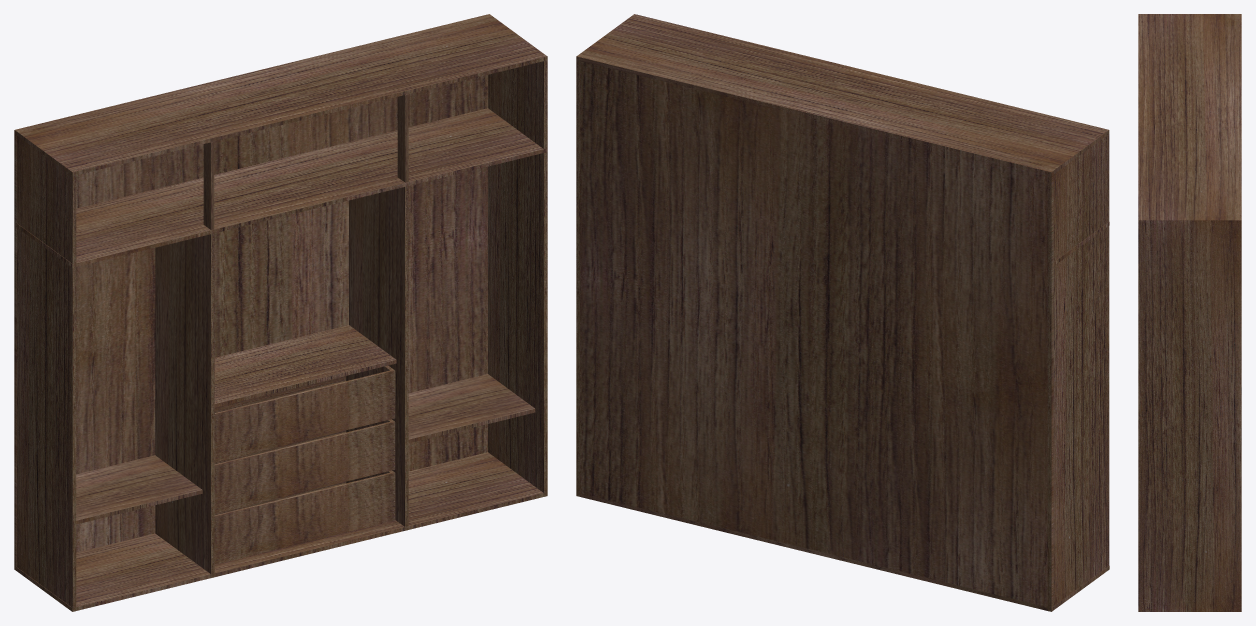
Rendered from closet-DFo61GYr.glb.
3 views of the same model, side by side, from view 1: azimuth 30°, elevation 25°; view 2: azimuth 150°, elevation 25°; view 3: azimuth 270°, elevation 25° (orthographic). The views are drawn at different scales.
Visible parts, largest first — view 1: Cube.004, Cube.006, Cube.009, Cube.001, Cube.008, Cube.003, Cube.005, Cube.014, Cube.000, Cube.007, Cube.030, Cube.002 (+2 smaller); view 2: Cube.004, Cube.006, Cube.001, Cube.014, Cube.003; view 3: Cube.003, Cube.006.
Boxes of the visible parts, bbox=[...] form: Cube.004: bbox=[14, 75, 487, 570]; Cube.006: bbox=[15, 14, 547, 175]; Cube.009: bbox=[214, 365, 395, 564]; Cube.001: bbox=[17, 136, 76, 611]; Cube.008: bbox=[15, 108, 547, 267]; Cube.003: bbox=[488, 16, 547, 496]; Cube.005: bbox=[155, 231, 214, 577]; Cube.014: bbox=[16, 452, 543, 611]; Cube.000: bbox=[349, 184, 408, 530]; Cube.007: bbox=[214, 325, 396, 407]; Cube.030: bbox=[408, 374, 535, 443]; Cube.002: bbox=[76, 455, 202, 524]; Cube.004: bbox=[580, 61, 1053, 608]; Cube.006: bbox=[577, 14, 1109, 174]; Cube.001: bbox=[1047, 134, 1109, 611]; Cube.014: bbox=[580, 493, 1109, 611]; Cube.003: bbox=[576, 16, 631, 496]; Cube.003: bbox=[1138, 220, 1241, 611]; Cube.006: bbox=[1138, 14, 1241, 220].
Size of the model in its own units: 5.41 by 4.78 by 1.14.
2 materials, 1 textured.
